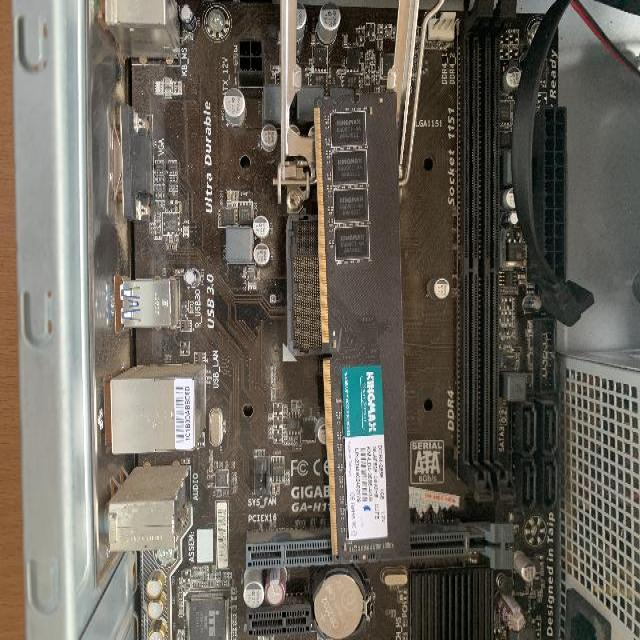Mainboard: (119, 0, 561, 640)
RAM: (312, 91, 411, 558)
